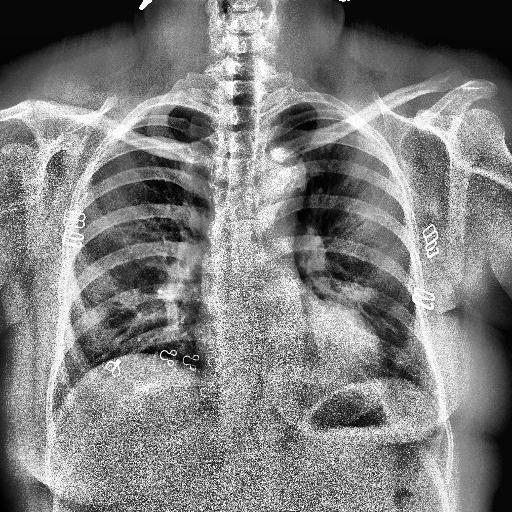0- Aortic enlargement: (253, 148, 308, 222), (254, 148, 306, 206), (252, 148, 308, 198)
7- Lung Opacity: (338, 130, 427, 364), (70, 144, 157, 362)
9- Other lesion: (338, 130, 427, 364), (70, 144, 157, 362)
